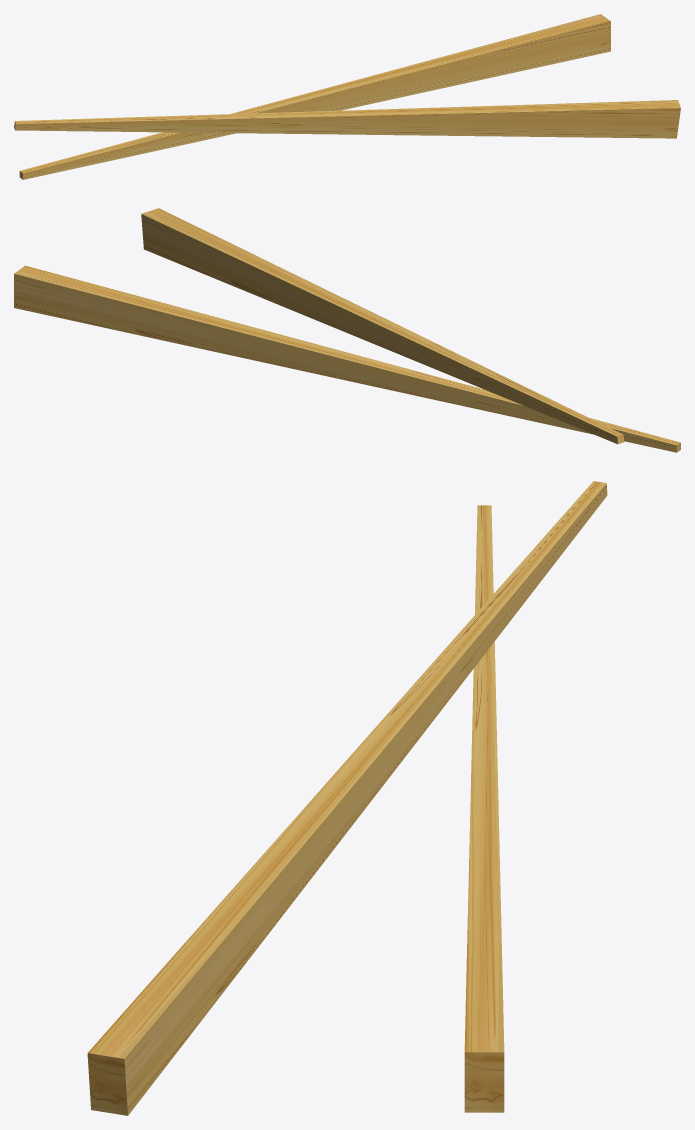
File: chopsticks.fbx
3 views of the same model, one above another, from view 1: azimuth 30°, elevation 25°; view 2: azimuth 150°, elevation 25°; view 3: azimuth 270°, elevation 25° (orthographic). The views are drawn at different scales.
Visible parts, largest first — view 1: pCube57; view 2: pCube57; view 3: pCube57.
Boxes of the visible parts, left/top/right/bottom form: pCube57: left=14, top=14, right=680, bottom=179; pCube57: left=14, top=208, right=680, bottom=452; pCube57: left=87, top=481, right=607, bottom=1115.
Size of the model in its own units: 2.89 by 0.2518 by 1.11.
Materials: 1 (1 with a texture image).
